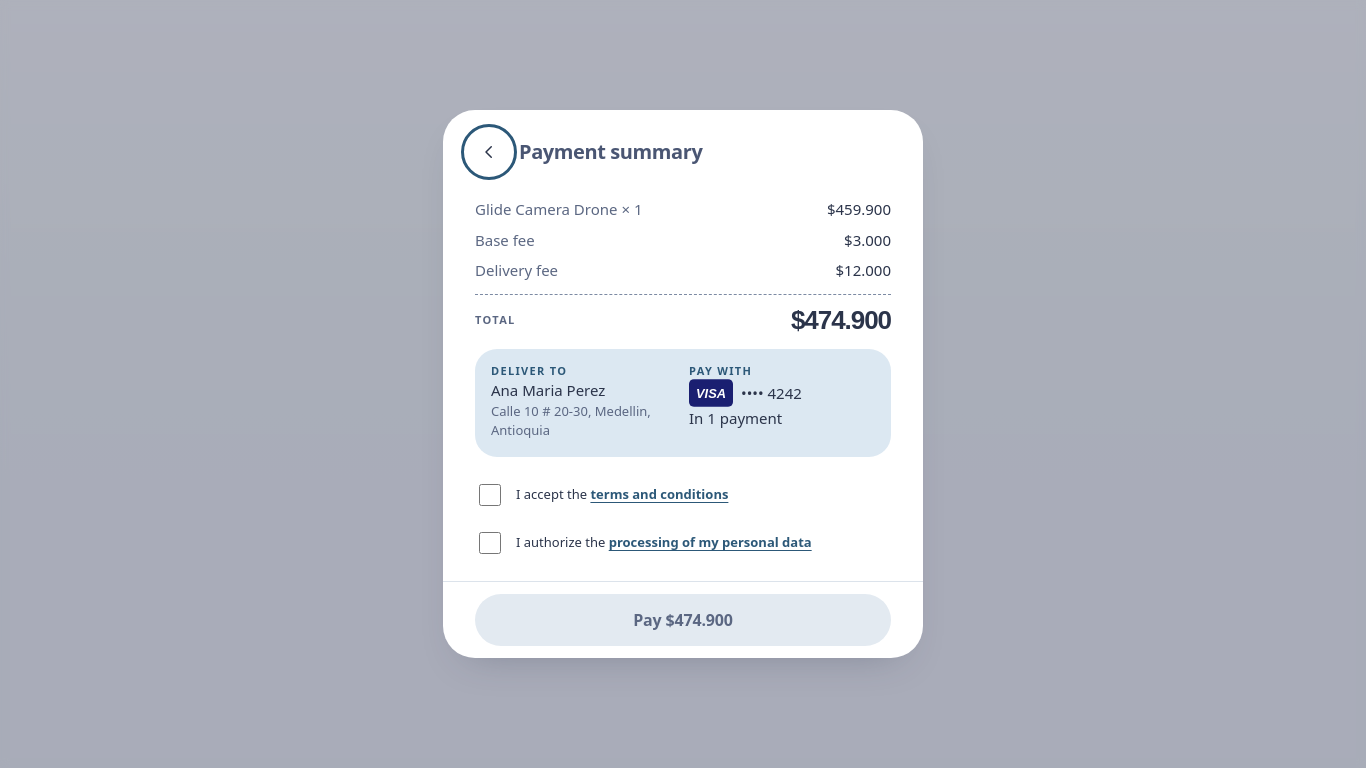
it: SummaryBackdrop › accepting the conditions › cannot pay before both are accepted
Expected: the button "Pay $474.900" is disabled, x1=475 y1=594 x2=891 y2=646
Click the checkbox labelled "I accept the terms and conditions": (490, 494) x1=479 y1=484 x2=501 y2=506
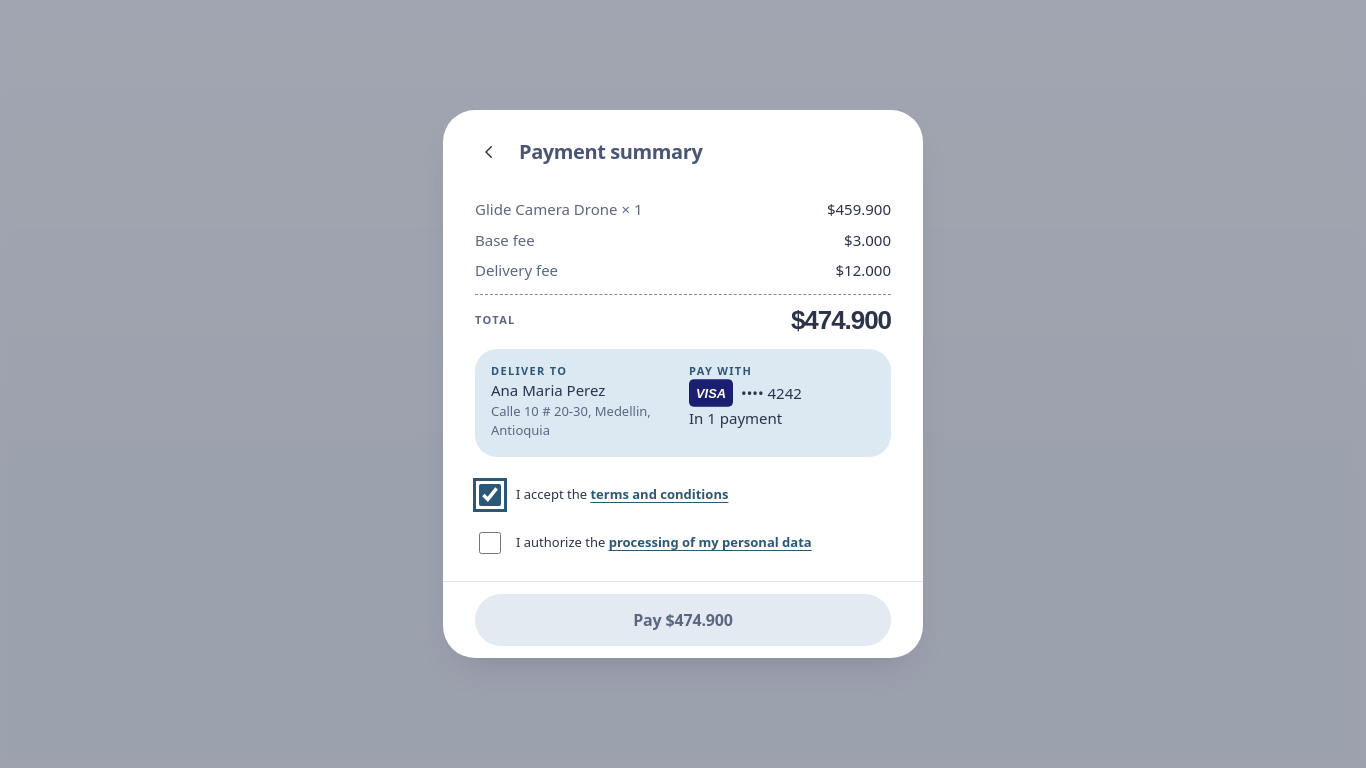
Expected: the button "Pay $474.900" is disabled, x1=475 y1=594 x2=891 y2=646
Click the checkbox labelled "I authorize the processing of my personal data": (490, 542) x1=479 y1=532 x2=501 y2=554
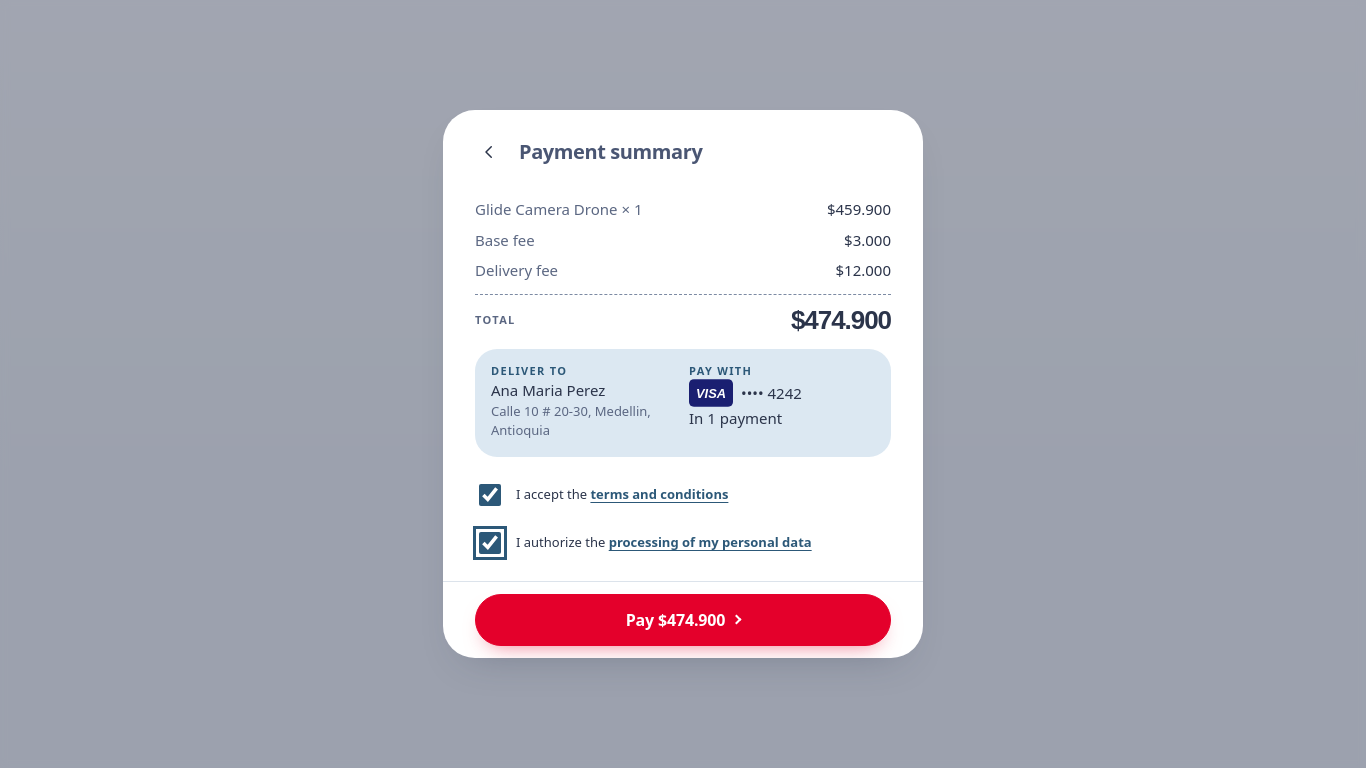
Result: the button "Pay $474.900" is enabled at x1=475 y1=594 x2=891 y2=646
